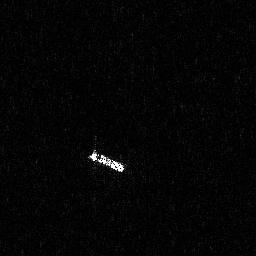ship: (85, 146, 124, 173)
